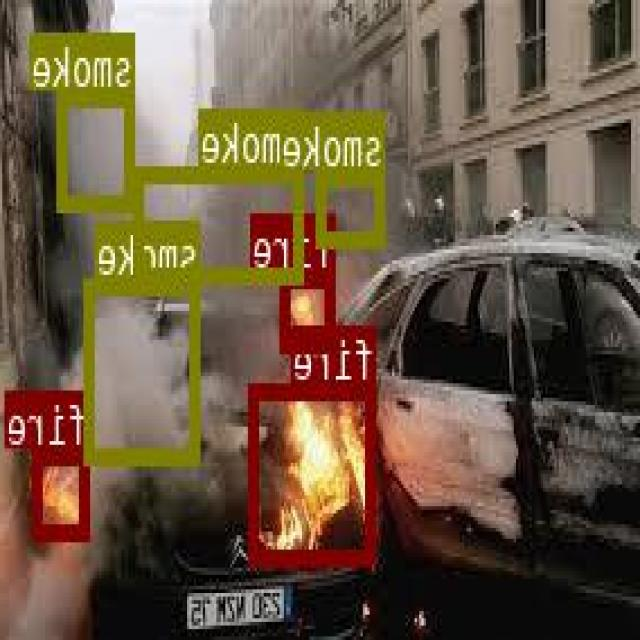fire: (251, 383, 379, 562), (34, 447, 92, 535), (284, 268, 337, 349)
smoke: (86, 278, 200, 460), (136, 164, 305, 280), (58, 88, 136, 206), (320, 166, 387, 244)
